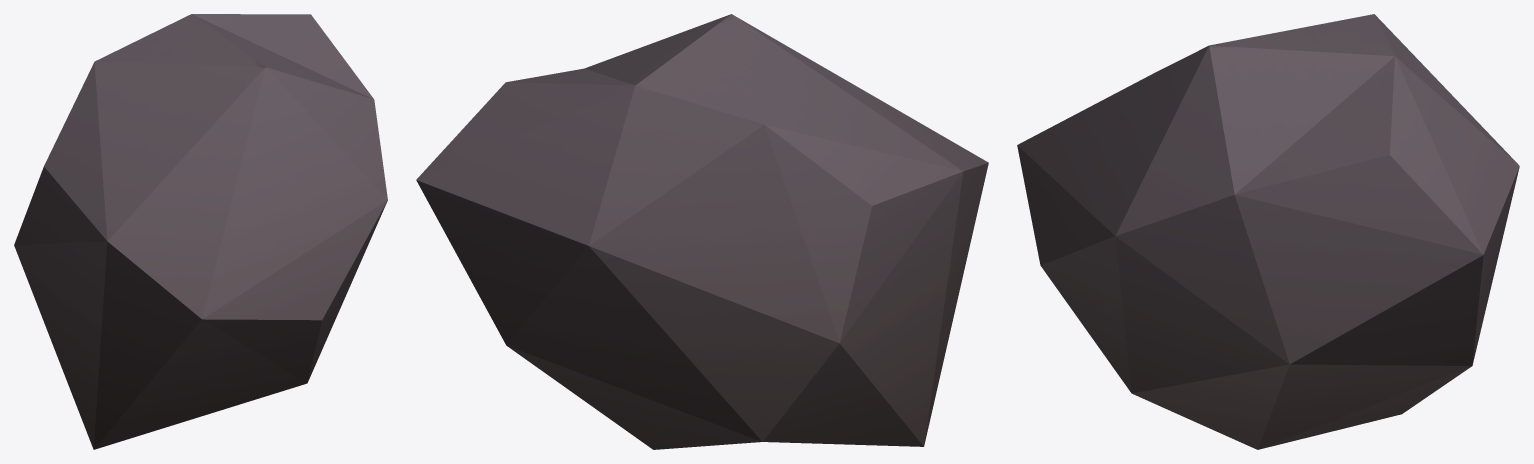
The model's file is Rock_002.FBX.
3 views of the same model, side by side, from view 1: azimuth 30°, elevation 25°; view 2: azimuth 150°, elevation 25°; view 3: azimuth 270°, elevation 25° (orthographic). The views are drawn at different scales.
Visible parts, largest first — view 1: Rock_002; view 2: Rock_002; view 3: Rock_002.
Boxes of the visible parts, bbox=[...] form: Rock_002: bbox=[14, 14, 387, 449]; Rock_002: bbox=[416, 14, 988, 449]; Rock_002: bbox=[1017, 14, 1519, 449].
Size of the model in its own units: 1.44 by 1.39 by 1.56.
1 material, 1 textured.
